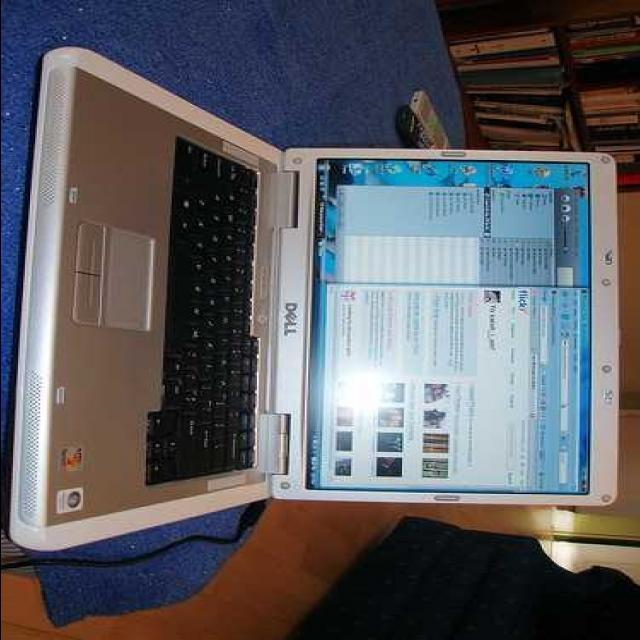laptop: (21, 65, 628, 575)
